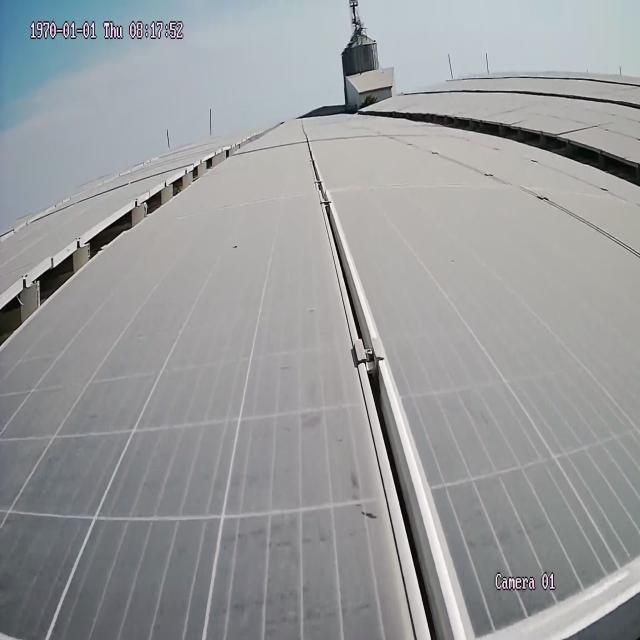interior panel: (315, 174, 468, 638), (481, 558, 639, 640)
outher panel: (1, 139, 254, 355), (409, 107, 639, 195)
